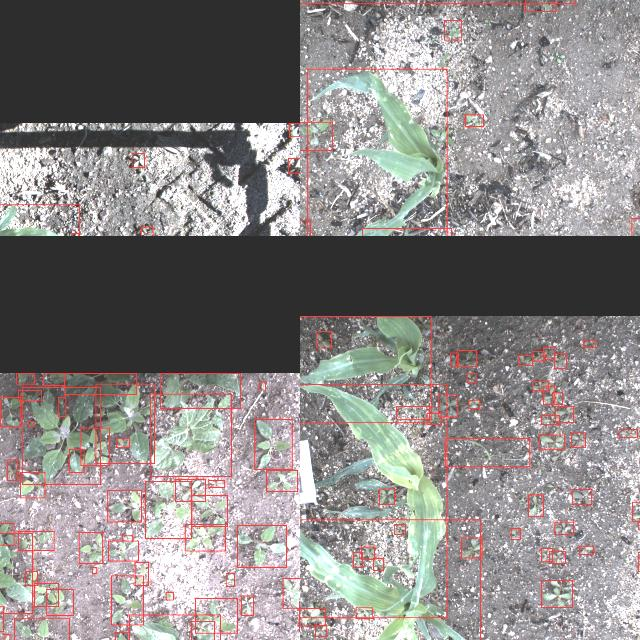crop: (300, 384, 446, 618), (307, 68, 446, 236), (300, 519, 479, 640), (300, 315, 430, 422), (150, 394, 230, 476), (160, 372, 240, 408), (128, 614, 219, 640)
weed: (21, 386, 100, 484), (94, 383, 154, 463), (0, 532, 32, 613), (145, 482, 191, 538), (444, 438, 530, 467), (237, 525, 286, 567), (254, 419, 292, 469), (111, 576, 143, 624), (195, 598, 237, 634), (64, 372, 136, 393), (13, 618, 68, 640), (107, 490, 141, 522), (80, 427, 108, 465), (184, 525, 224, 551), (192, 496, 226, 526), (300, 122, 332, 150), (540, 580, 572, 608), (78, 532, 102, 564), (17, 531, 53, 551), (46, 589, 72, 615), (266, 470, 296, 492), (175, 479, 205, 501), (20, 472, 44, 498), (108, 541, 138, 561), (0, 396, 20, 426), (282, 578, 300, 608), (34, 584, 58, 606), (300, 608, 325, 626), (437, 394, 457, 416), (190, 621, 213, 640), (461, 538, 482, 558), (68, 449, 84, 473), (396, 406, 428, 418), (538, 435, 564, 449), (524, 0, 555, 11), (444, 20, 461, 40), (134, 562, 148, 586), (456, 350, 476, 366), (528, 494, 542, 516), (555, 406, 573, 422), (0, 523, 13, 545), (571, 490, 591, 504), (42, 373, 64, 385), (378, 488, 394, 504), (464, 115, 484, 127), (241, 596, 253, 616), (130, 152, 144, 168), (316, 331, 330, 347), (571, 432, 585, 448), (18, 390, 40, 400), (554, 522, 572, 534), (542, 386, 554, 404), (7, 460, 17, 480), (16, 372, 34, 383), (287, 157, 300, 172), (549, 552, 565, 564), (631, 501, 640, 520), (288, 123, 300, 137), (25, 571, 37, 585), (540, 548, 552, 562), (553, 354, 565, 368), (360, 547, 374, 559), (57, 396, 65, 416), (532, 381, 548, 391), (352, 552, 362, 568), (356, 608, 372, 618), (300, 220, 309, 236), (618, 429, 636, 437), (541, 416, 559, 424), (542, 347, 554, 359), (518, 355, 532, 365), (426, 414, 440, 424), (115, 438, 128, 448), (208, 480, 224, 488), (578, 546, 594, 554), (140, 226, 152, 236), (510, 528, 520, 540), (552, 392, 562, 404), (532, 351, 544, 361), (393, 524, 405, 534), (373, 558, 383, 570), (314, 626, 326, 636), (114, 632, 128, 640), (450, 352, 458, 366), (468, 399, 479, 408), (225, 574, 233, 586), (583, 339, 595, 347), (466, 373, 476, 382), (122, 535, 132, 541), (165, 592, 172, 600), (259, 381, 265, 389), (3, 634, 9, 640), (92, 567, 96, 573), (28, 422, 34, 426), (71, 233, 78, 236), (637, 522, 640, 529)
